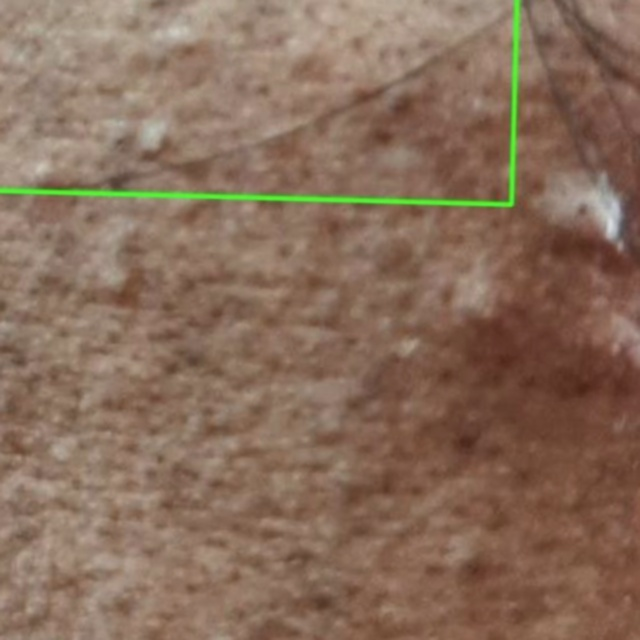Atopic Dermatitis: (0, 0, 517, 204)
